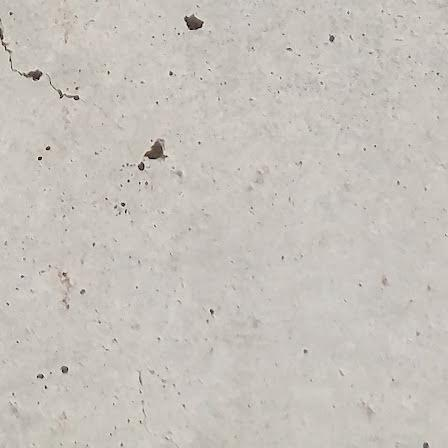crack: (0, 17, 83, 121)
hole: (182, 9, 207, 34)
spalling: (141, 134, 174, 167)
